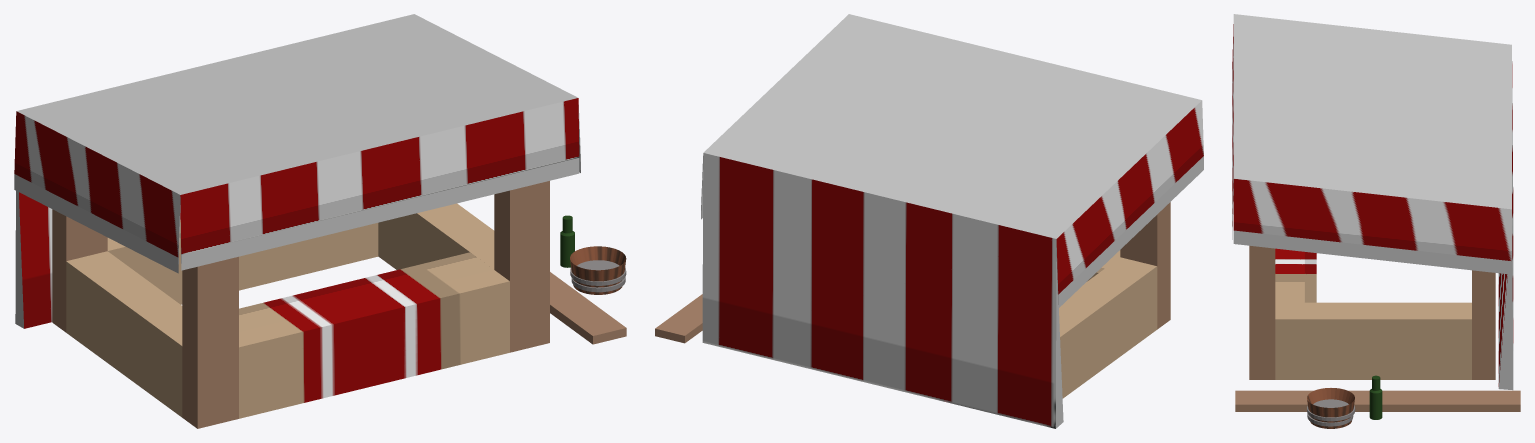
The model's file is Festival_Stands.fbx.
3 views of the same model, side by side, from view 1: azimuth 30°, elevation 25°; view 2: azimuth 150°, elevation 25°; view 3: azimuth 270°, elevation 25° (orthographic). The views are drawn at different scales.
Visible parts, largest first — view 1: Cube, Cube.001, Cylinder.003, Cylinder; view 2: Cube, Cube.001; view 3: Cube, Cube.001, Cylinder.003, Cylinder.
Boxes of the visible parts, x1,y1,x2,y2 form: Cube: (14,14,580,428); Cube.001: (550,272,626,344); Cylinder.003: (570,246,626,294); Cylinder: (560,215,574,267); Cube: (701,14,1203,428); Cube.001: (655,294,702,343); Cube: (1232,14,1513,390); Cube.001: (1235,390,1520,411); Cylinder.003: (1307,388,1355,428); Cylinder: (1369,375,1382,419).
Bounding box in the file's own units: 547 × 262 × 321.
Materials: 4 (4 with a texture image).
